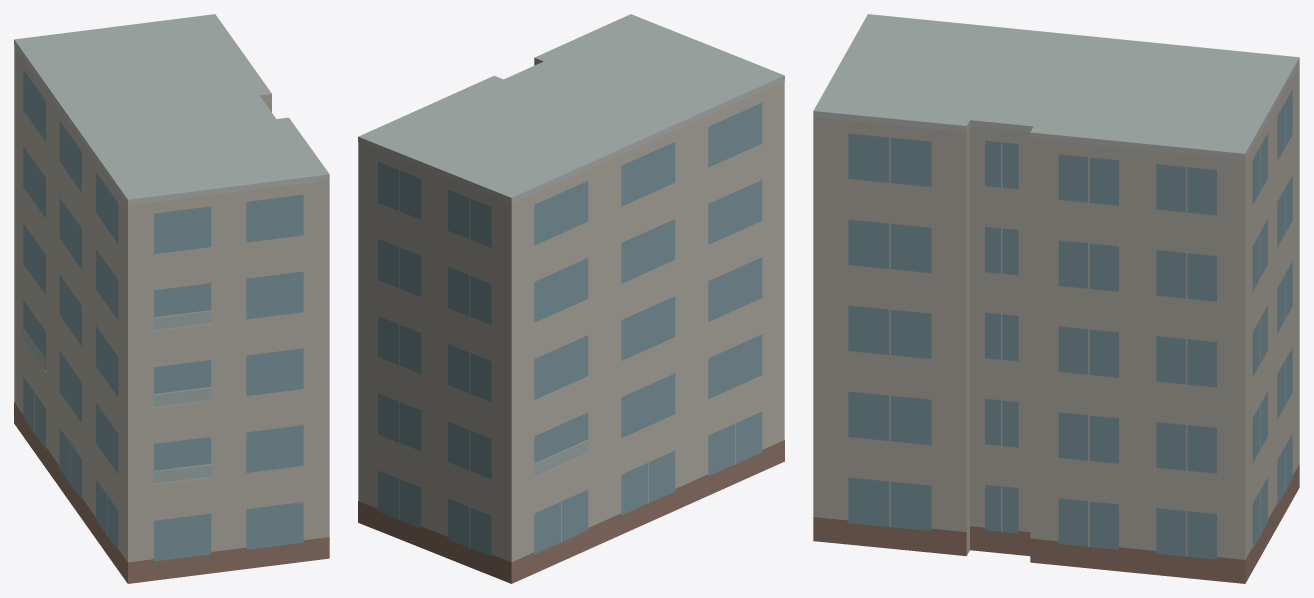
The model's file is survey-upis-32849935.glb.
3 renders of one model, left to right at view 1: azimuth 30°, elevation 25°; view 2: azimuth 150°, elevation 25°; view 3: azimuth 270°, elevation 25°, orthographic. The views are drawn at different scales.
Parts seen in each view (by area): view 1: survey-upis-32849935.tmp; view 2: survey-upis-32849935.tmp; view 3: survey-upis-32849935.tmp.
Part boxes in pixels (x1,y1,x2,y2): survey-upis-32849935.tmp: (14, 14, 329, 583); survey-upis-32849935.tmp: (358, 14, 784, 583); survey-upis-32849935.tmp: (813, 14, 1299, 583).
Bounding box in the file's own units: 11.57 × 16.58 × 17.
